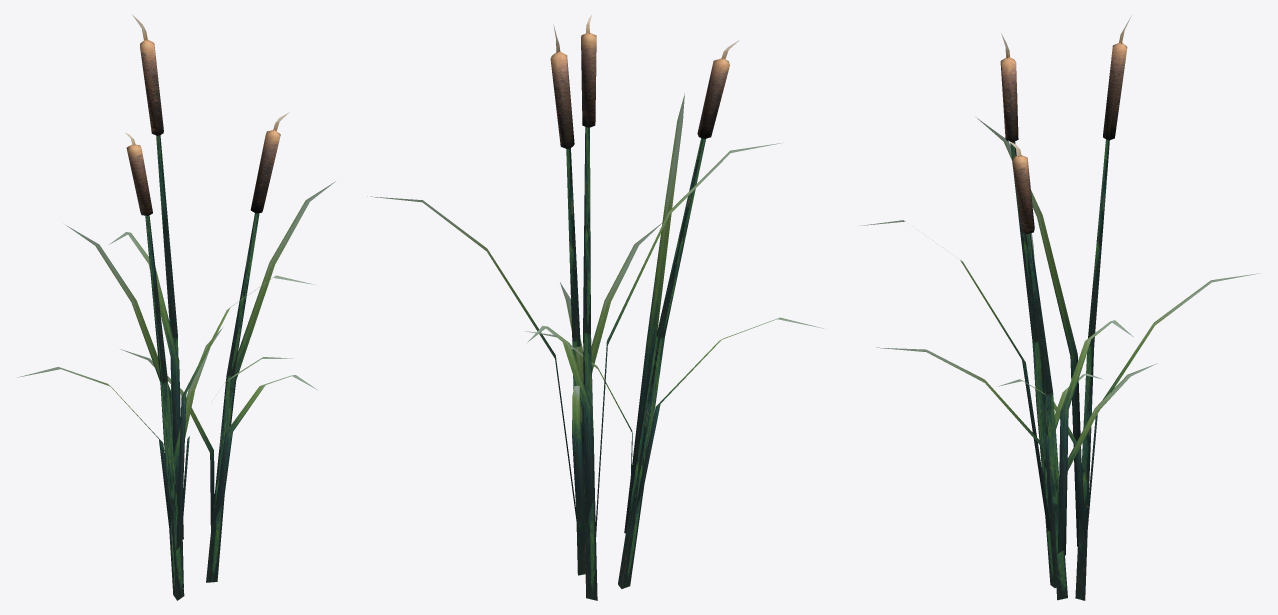
File: swmp_shor_cattail_cluster_blue_l0.fbx
3 views of the same model, side by side, from view 1: azimuth 30°, elevation 25°; view 2: azimuth 150°, elevation 25°; view 3: azimuth 270°, elevation 25° (orthographic). The views are drawn at different scales.
Visible parts, largest first — view 1: mesh_node; view 2: mesh_node; view 3: mesh_node.
Part boxes in pixels (box(x1,y1,x2,y2)): mesh_node: box(17, 14, 335, 600); mesh_node: box(367, 15, 823, 600); mesh_node: box(860, 15, 1261, 600).
Size of the model in its own units: 2.7 by 3.87 by 2.5.
1 material, 1 textured.
